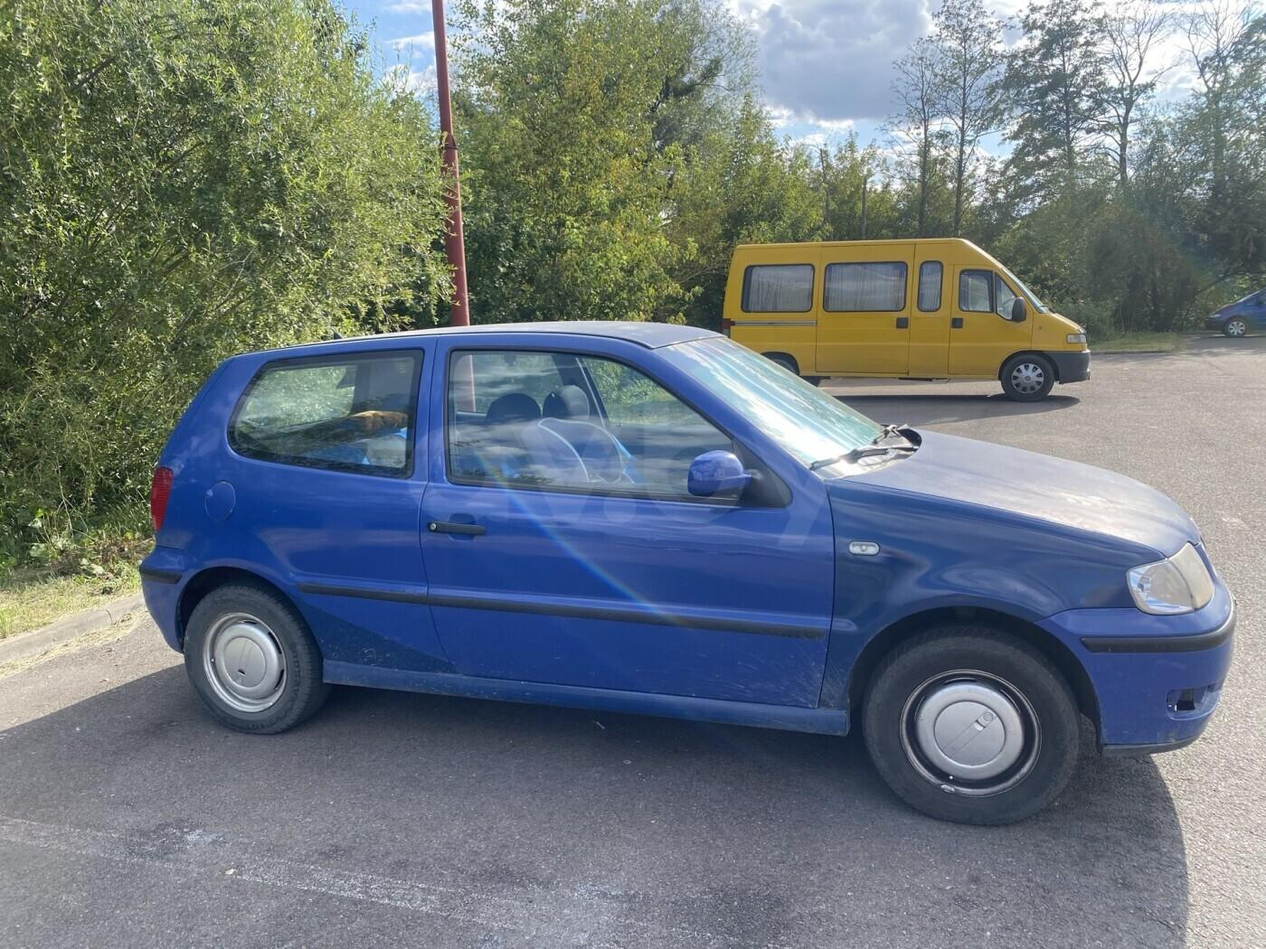Polo_2000-2002: (136, 320, 1242, 825)
